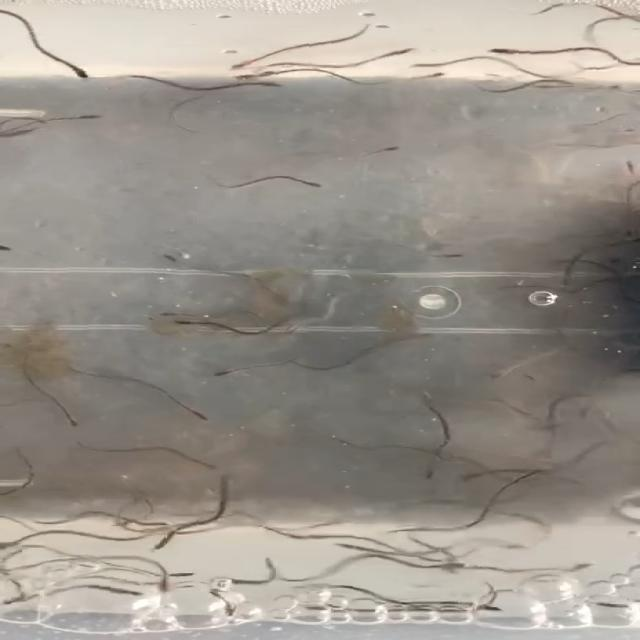active_glass_eel: (150, 244, 208, 270), (165, 404, 223, 427), (47, 63, 109, 84), (182, 449, 224, 473), (204, 601, 256, 620), (40, 414, 91, 432), (136, 576, 187, 594), (301, 174, 336, 200), (196, 360, 237, 382), (332, 540, 380, 558), (370, 43, 419, 60), (138, 542, 196, 556), (67, 112, 112, 130), (513, 463, 546, 487), (556, 558, 602, 575), (157, 312, 196, 330), (249, 79, 297, 93), (420, 468, 449, 491), (552, 563, 592, 579), (477, 44, 528, 56), (381, 139, 408, 159), (506, 540, 544, 554), (472, 598, 504, 614), (436, 557, 466, 574), (244, 557, 283, 570), (229, 56, 254, 74), (419, 70, 452, 83), (406, 536, 439, 547), (467, 472, 488, 488)
